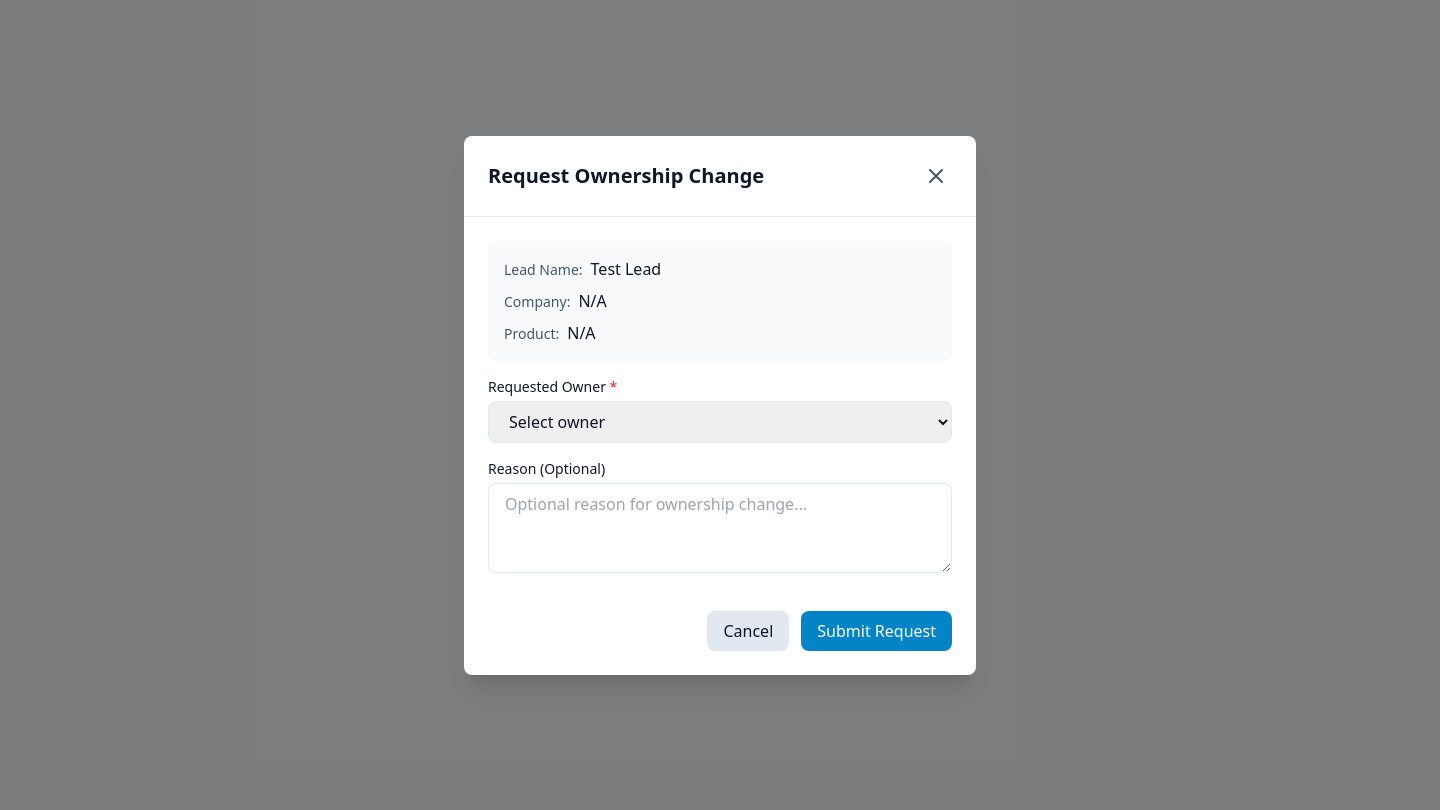
Scenario: RequestOwnershipModal › Loading State › disables form during submission
This screenshot has width=1440, height=810.
Select "Admin User" in the dropdown labelled "Requested Owner *" at (720, 422), box [488, 400, 952, 442]
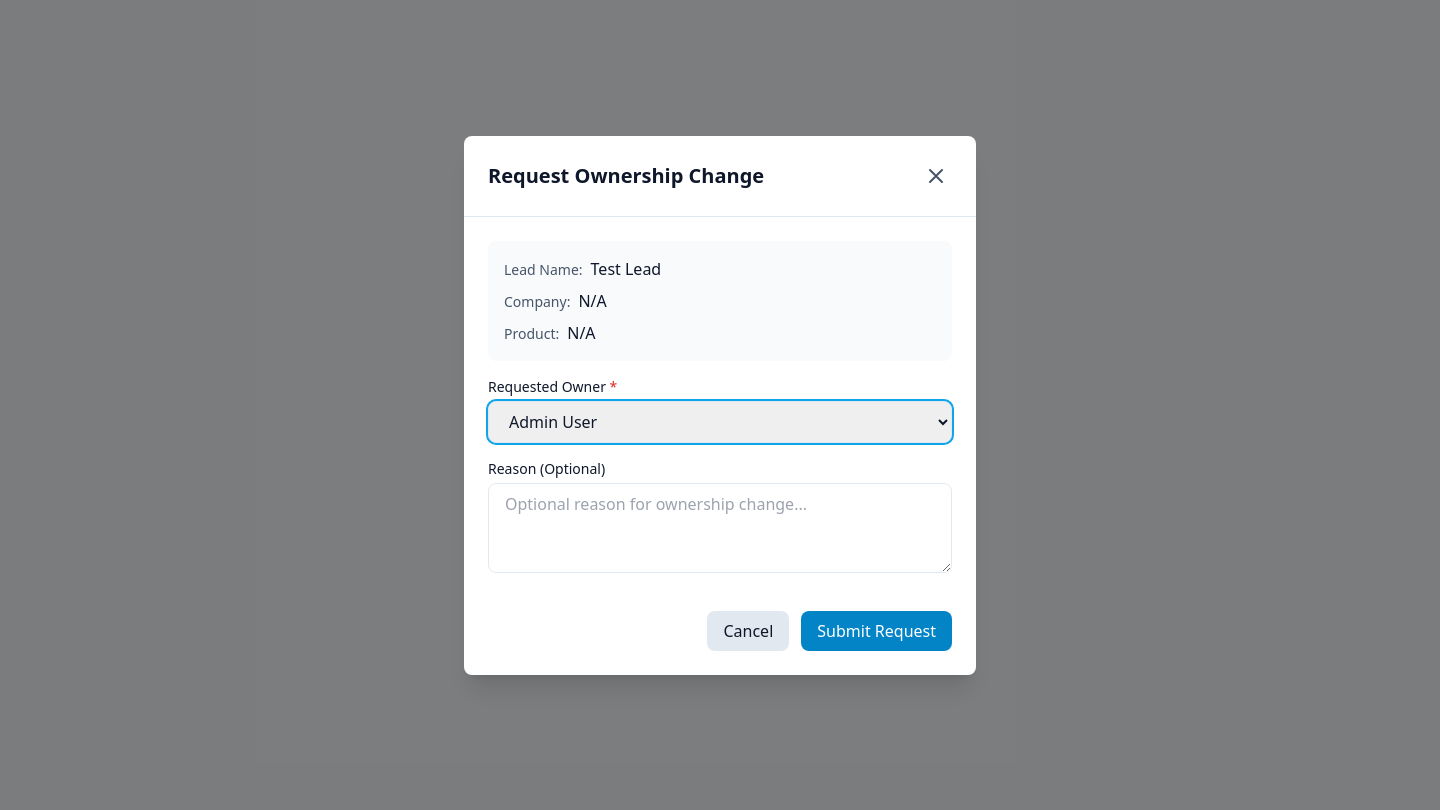
Click the button "Submit Request" at (877, 630), box [801, 610, 952, 650]
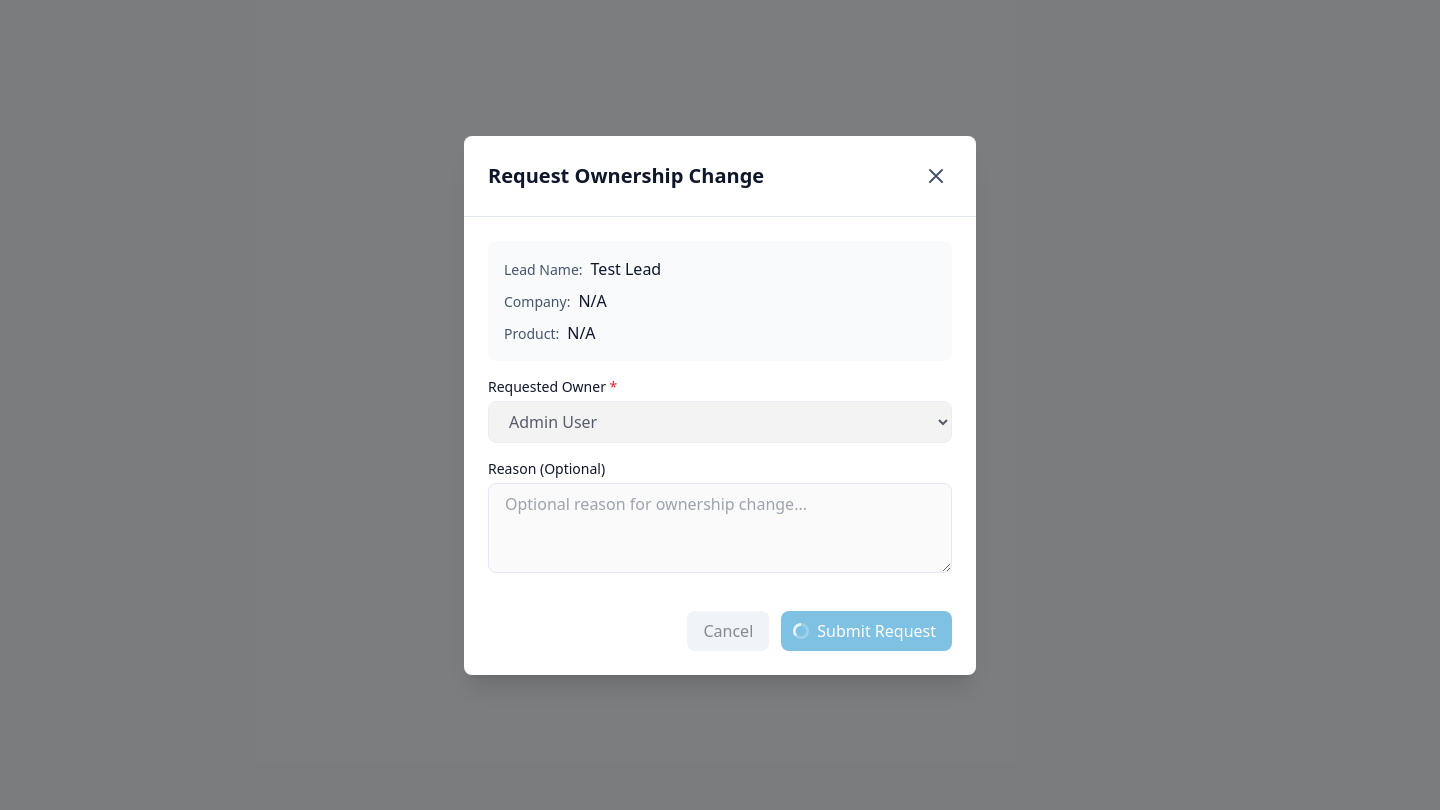
Expected: the button "Submit Request" is disabled, [781, 610, 952, 650]
